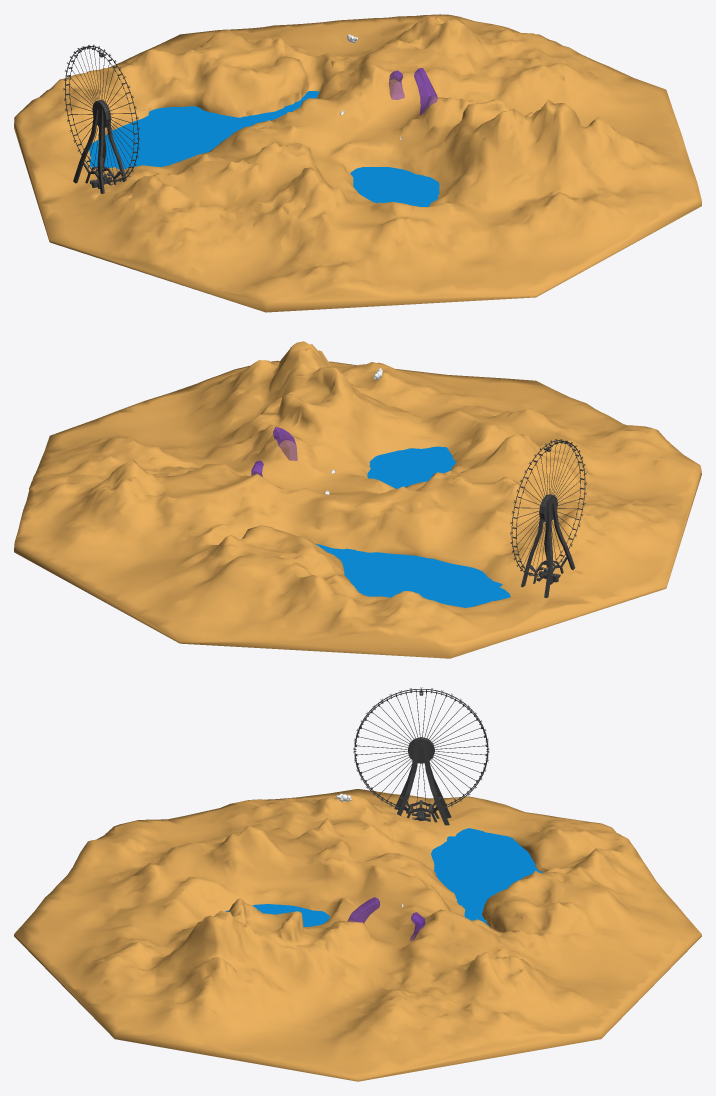
File: lobby_deleted20.glb
3 renders of one model, top to bottom at view 1: azimuth 30°, elevation 25°; view 2: azimuth 150°, elevation 25°; view 3: azimuth 270°, elevation 25°, orthographic. The views are drawn at different scales.
Visible parts, largest first — view 1: Landscape, ocean 01, wheel, ocean 02, Object_184.001, Object_20.001; view 2: Landscape, ocean 01, wheel, ocean 02, Object_184.001, Object_20.001; view 3: Landscape, ocean 01, wheel, Object_184.001, ocean 02, Object_20.001.
Boxes of the visible parts, left/top/right/bottom form: Landscape: left=14, top=14, right=701, bottom=312; ocean 01: left=89, top=91, right=319, bottom=169; wheel: left=63, top=44, right=139, bottom=183; ocean 02: left=350, top=166, right=439, bottom=206; Object_184.001: left=73, top=103, right=126, bottom=193; Object_20.001: left=389, top=68, right=437, bottom=115; Landscape: left=14, top=341, right=701, bottom=658; ocean 01: left=315, top=543, right=510, bottom=607; wheel: left=510, top=439, right=586, bottom=577; ocean 02: left=367, top=446, right=456, bottom=488; Object_184.001: left=521, top=497, right=575, bottom=597; Object_20.001: left=251, top=427, right=297, bottom=476; Landscape: left=14, top=789, right=701, bottom=1081; ocean 01: left=431, top=828, right=543, bottom=926; wheel: left=353, top=687, right=489, bottom=813; Object_184.001: left=394, top=742, right=451, bottom=825; ocean 02: left=225, top=904, right=329, bottom=926; Object_20.001: left=347, top=897, right=425, bottom=940.
Bounding box in the file's own units: 490 × 143 × 490.
